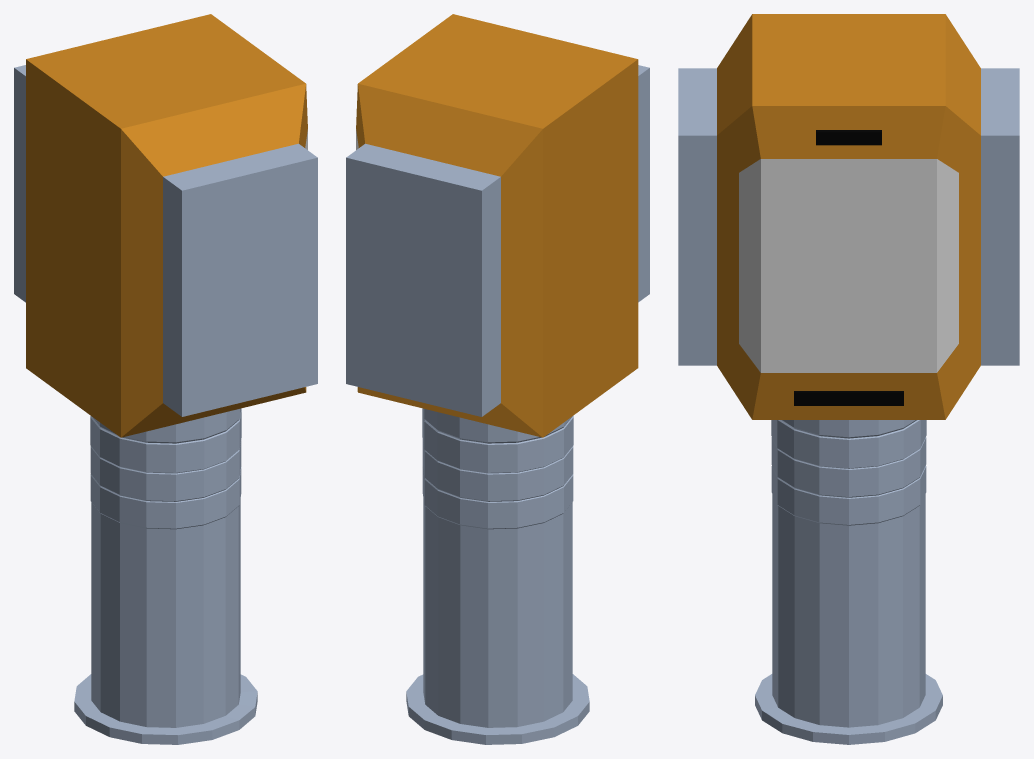
File: Parquimetro_MMX.fbx
3 renders of one model, left to right at view 1: azimuth 30°, elevation 25°; view 2: azimuth 150°, elevation 25°; view 3: azimuth 270°, elevation 25°, orthographic.
Parts seen in each view (by area): view 1: Cube, Cylinder; view 2: Cube, Cylinder; view 3: Cube, Cylinder, Vidro, Cube.003, Cube.001.
Part boxes in pixels (x1,y1,x2,y2): Cube: (14, 14, 317, 437); Cylinder: (74, 408, 257, 744); Cube: (346, 14, 649, 437); Cylinder: (406, 408, 589, 744); Cube: (678, 14, 1019, 419); Cylinder: (755, 420, 942, 744); Vidro: (739, 159, 958, 372); Cube.003: (794, 391, 903, 405); Cube.001: (816, 130, 881, 145).
Bounding box in the file's own units: 143 × 452 × 217.
